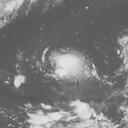cyclone: (48, 49, 97, 83)
